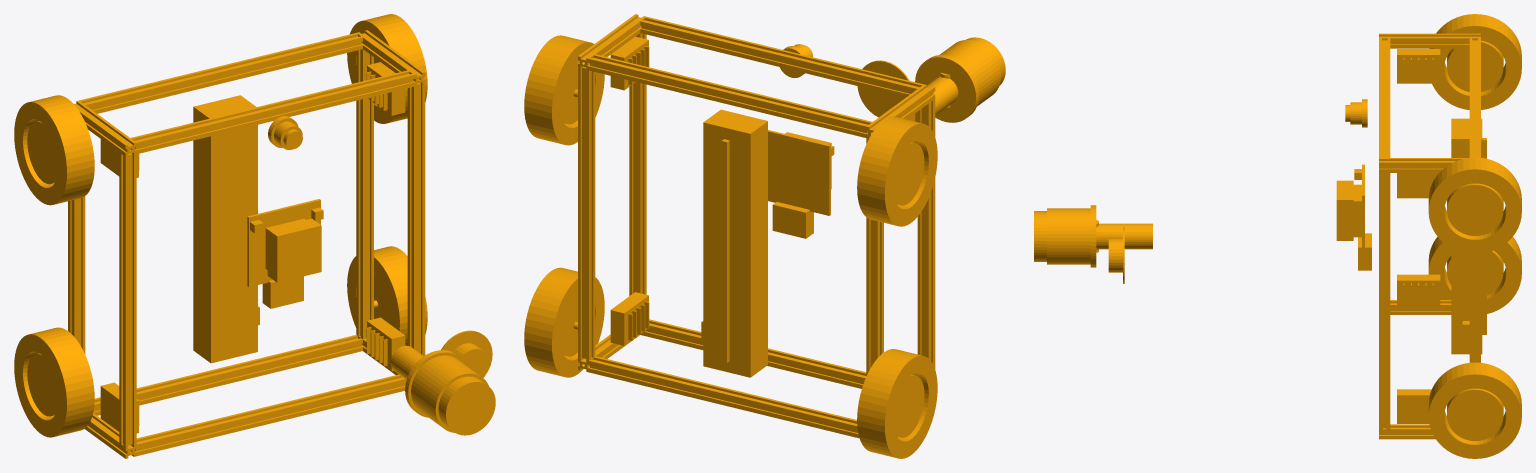
The model's file is bvr0_assembly.glb.
The picture shows the model from 3 angles, left to right: view 1: azimuth 30°, elevation 25°; view 2: azimuth 150°, elevation 25°; view 3: azimuth 270°, elevation 25°; orthographic projection. The views are drawn at different scales.
Parts seen in each view (by area): view 1: bar-diff-diff-union-union-union-union-union-union-union-unio; view 2: bar-diff-diff-union-union-union-union-union-union-union-unio; view 3: bar-diff-diff-union-union-union-union-union-union-union-unio.
Part boxes in pixels (x1,y1,x2,y2): bar-diff-diff-union-union-union-union-union-union-union-unio: [14, 14, 495, 458]; bar-diff-diff-union-union-union-union-union-union-union-unio: [524, 14, 1005, 458]; bar-diff-diff-union-union-union-union-union-union-union-unio: [1034, 14, 1521, 458].
Bounding box in the file's own units: 650 × 565 × 863.
